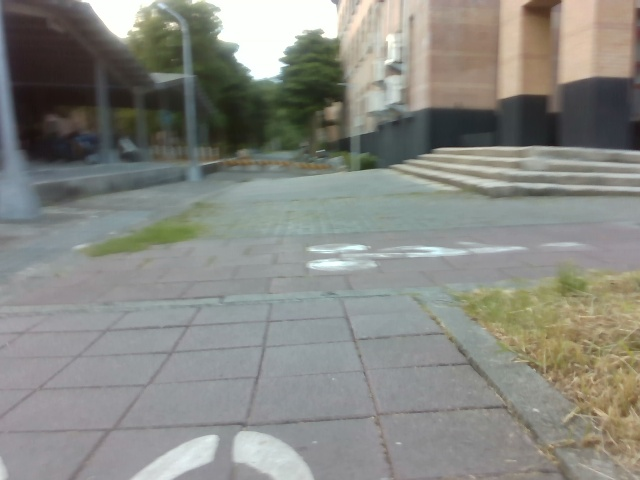grass: (407, 263, 639, 479), (125, 0, 344, 157)
road: (0, 170, 639, 479)
